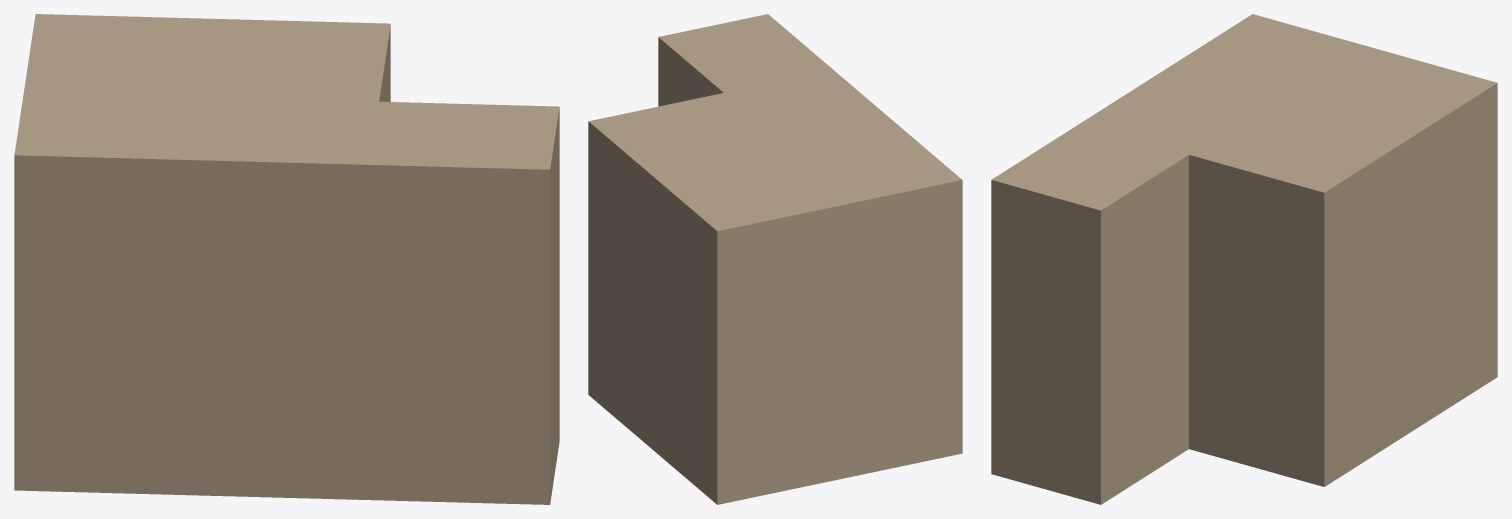
File: bld_100469752.dae
3 views of the same model, side by side, from view 1: azimuth 30°, elevation 25°; view 2: azimuth 150°, elevation 25°; view 3: azimuth 270°, elevation 25° (orthographic). The views are drawn at different scales.
Visible parts, largest first — view 1: bld_100469752; view 2: bld_100469752; view 3: bld_100469752.
Part boxes in pixels (bbox=[...]): bld_100469752: bbox=[14, 14, 559, 504]; bld_100469752: bbox=[588, 14, 962, 504]; bld_100469752: bbox=[991, 14, 1497, 504].
Bounding box in the file's own units: 11.46 × 12.47 × 8.
